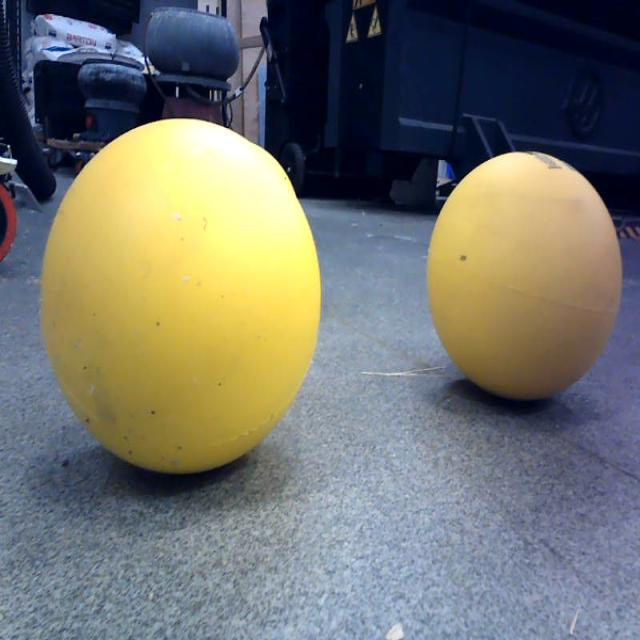Fuel: (40, 118, 320, 474), (427, 151, 622, 404)
